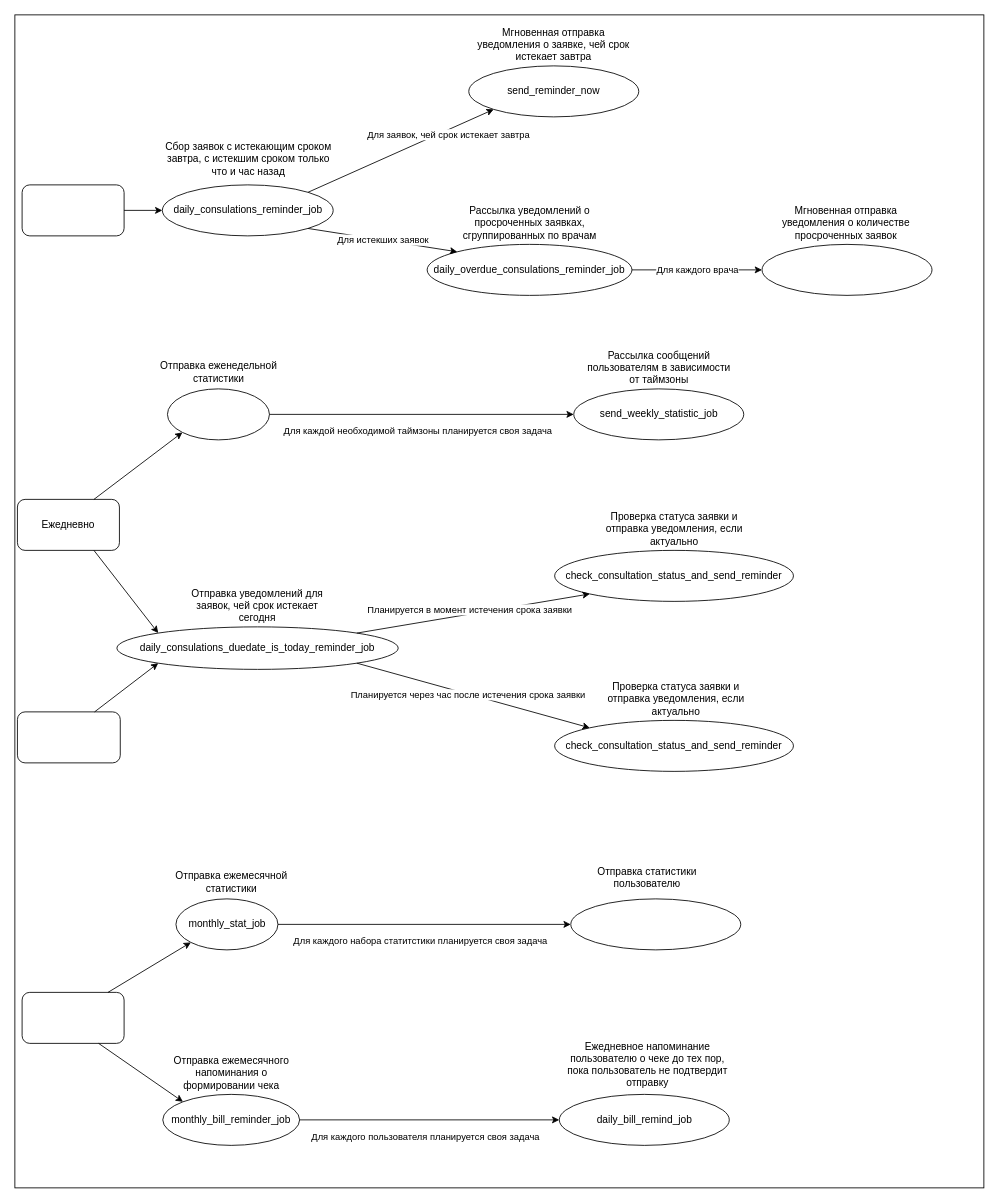
The diagram is 999 pixels wide and 1203 high, and some of its shapes have lost their labels. The shapes that lost their labels are listed below. From the top down, each one's box as (x1, y1, x2, y2) in pixels, then its label:
(21, 184, 124, 236): Каждый час (для каждой временной зоны)
(761, 244, 932, 295): send_reminder_overdue
(167, 388, 269, 440): weekly_stat_job
(17, 711, 120, 763): Один раз при запуске бота
(570, 898, 741, 950): send_monthly_statistic_job
(21, 992, 124, 1043): Ежемесячно
